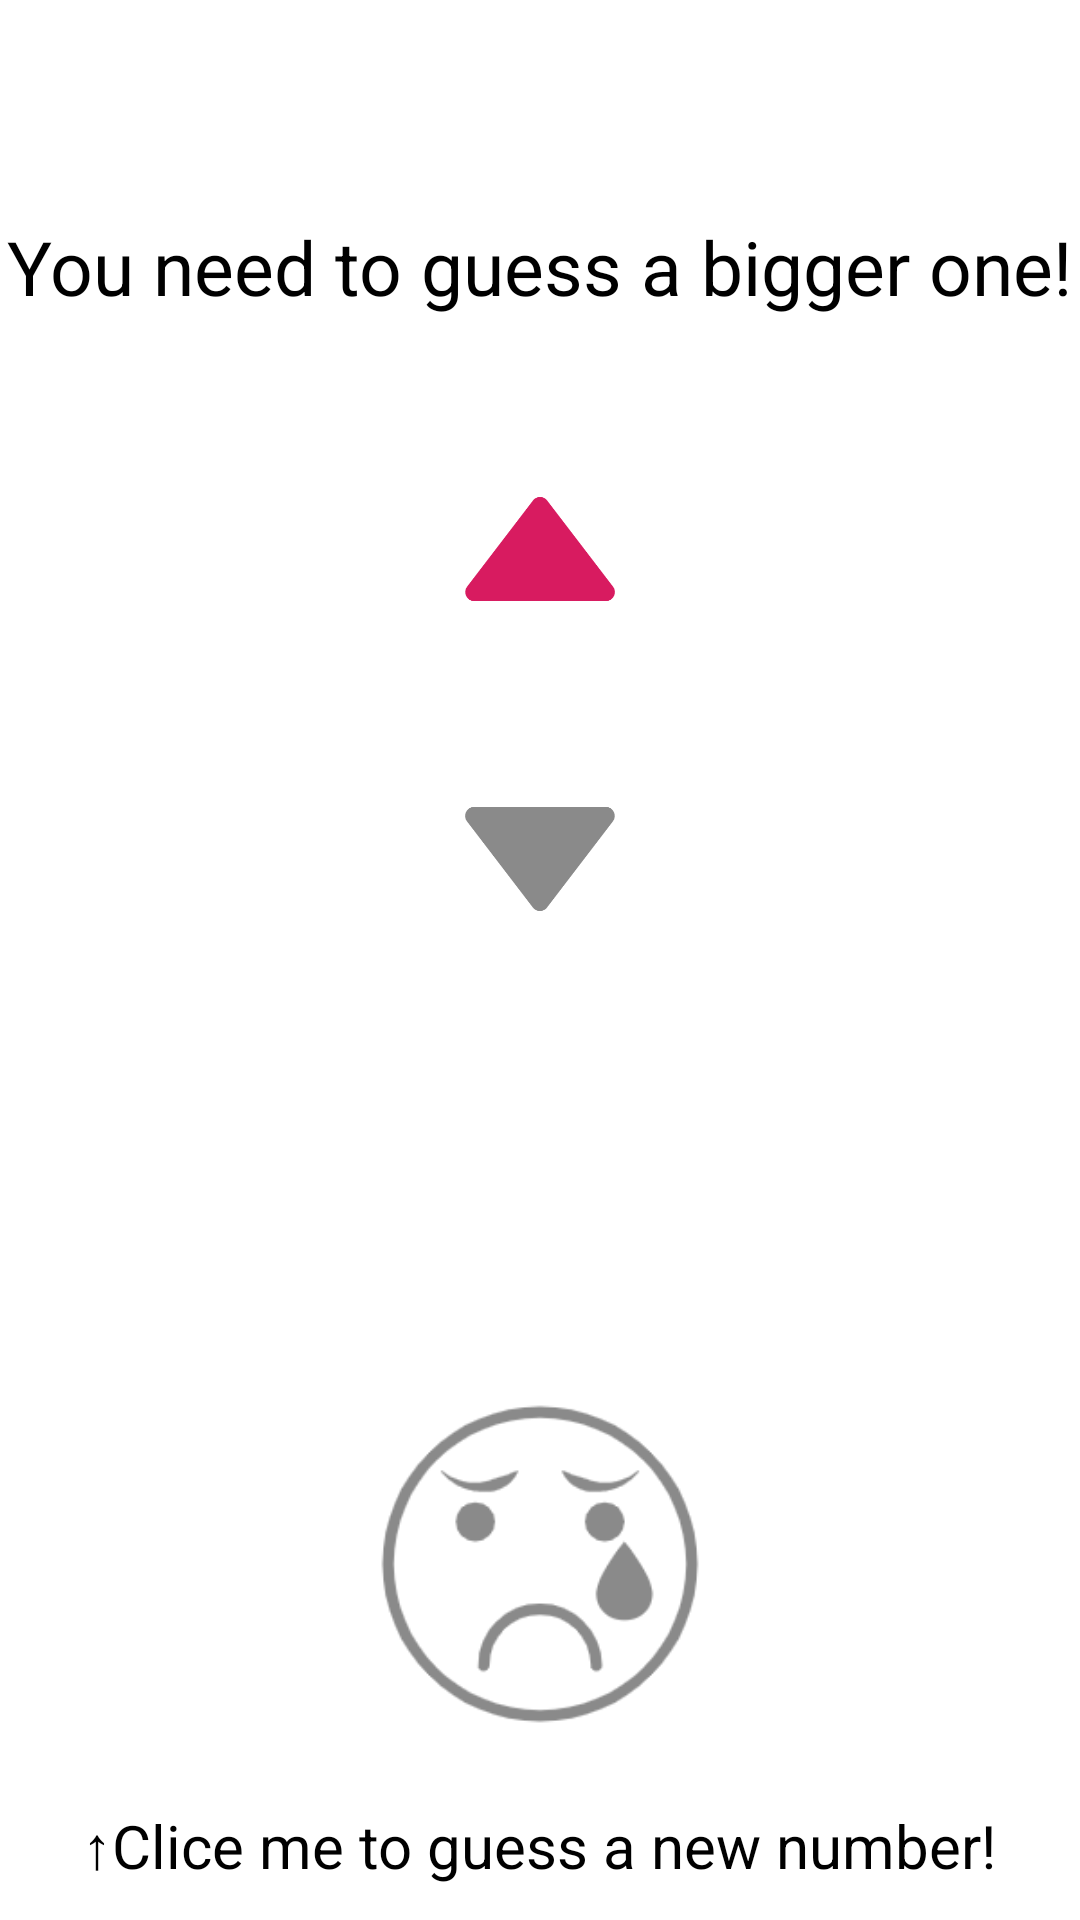

Locate icon controls on the screen. Image size 1080x1920, boxes as (x1, y1, x2, y2).
down: (465, 807, 615, 911)
sad: (382, 1406, 698, 1722)
